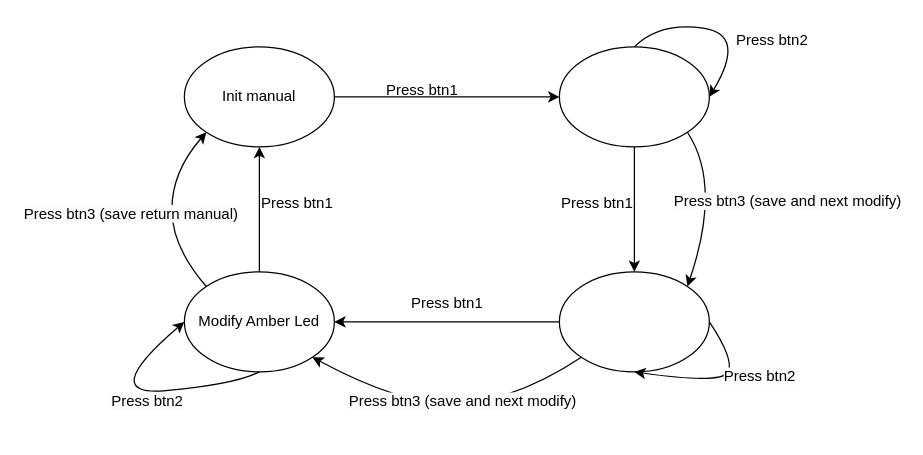
Image size: 923x455. Some labels were removed from this diagram. The centre of each missing label's shape, as x and y in pixels:
"Modify Green Led" belongs at pixel 633 321.
"Modify Red Led" belongs at pixel 633 96.
